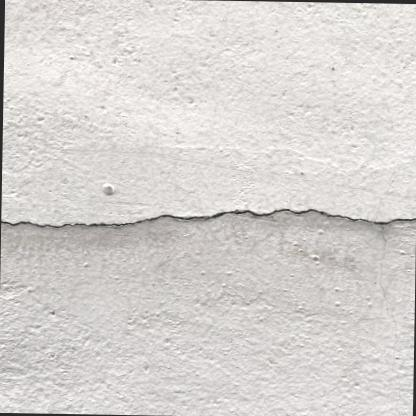crack: (0, 208, 416, 229)
